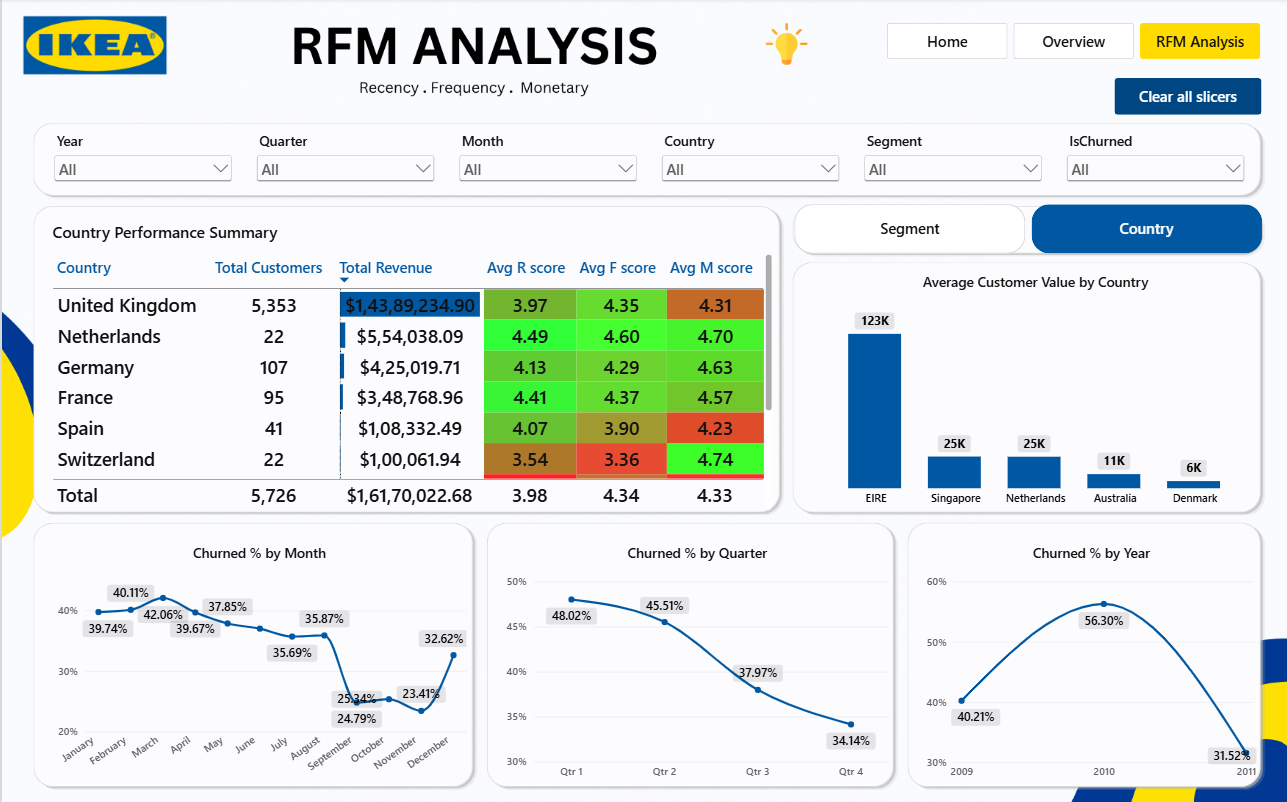

This screenshot's page, from the dashboard's own definition file:
{"tool":"powerbi","page":{"name":"RFM Analysis","canvas":[1750,1100],"ordinal":2},"visuals":[{"type":"slicer","fields":{"Values":["Sheet1.InvoiceDate.Variation.Date Hierarchy.Year"]},"box":[66.1,182.1,251.8,69.6],"z":0},{"type":"lineChart","fields":{"Category":["Sheet1.InvoiceDate.Variation.Date Hierarchy.Month"],"Y":["Sheet1.Churned %"]},"box":[43.4,719.3,595.2,354.7],"z":0,"group":"g1"},{"type":"slicer","fields":{"Values":["Sheet1.InvoiceDate.Variation.Date Hierarchy.Quarter"]},"box":[341.8,182.1,251.8,69.6],"z":1000},{"type":"columnChart","fields":{"Category":["Sheet1.Segment"],"Y":["Sheet1.Average Customer Value"]},"box":[1078,362.6,634.6,340.9],"z":1000,"group":"g1"},{"type":"slicer","fields":{"Values":["Sheet1.InvoiceDate.Variation.Date Hierarchy.Month"]},"box":[617.5,182.1,251.8,69.6],"z":2000},{"type":"lineChart","fields":{"Category":["Sheet1.InvoiceDate.Variation.Date Hierarchy.Quarter"],"Y":["Sheet1.Churned %"]},"box":[660.2,719.3,551.8,354.7],"z":2000,"group":"g1"},{"type":"slicer","fields":{"Values":["Sheet1.Country"]},"box":[893.2,182.1,251.8,69.6],"z":3000},{"type":"lineChart","fields":{"Category":["Sheet1.InvoiceDate.Variation.Date Hierarchy.Year"],"Y":["Sheet1.Churned %"]},"box":[1231.3,719.3,481.3,355.4],"z":3000,"group":"g1"},{"type":"slicer","fields":{"Values":["Sheet1.Segment"]},"box":[1168.9,182.1,251.8,69.6],"z":4000},{"type":"tableEx","title":"Segment Performance Summary","fields":{"Values":["Sheet1.Segment","Sheet1.Total Customers","Sheet1.Total Revenue","Avg(Sheet1.R score)","Avg(Sheet1.F score)","Avg(Sheet1.M score)"]},"box":[43.4,279.8,1011,423.7],"z":4000,"group":"g1"},{"type":"slicer","fields":{"Values":["Sheet1.IsChurned"]},"box":[1444.6,182.1,251.8,69.6],"z":5000},{"type":"actionButton","box":[1513.6,108.8,200,50],"z":6000},{"type":"bookmarkNavigator","box":[1078,279.8,636.5,67],"z":7000},{"type":"group","id":"g1","title":"Group 1","box":[43.4,279.8,1669.2,795],"z":8000},{"type":"image","box":[1038.6,33.5,57.2,57.2],"z":10000},{"type":"pageNavigator","box":[1204.1,34,510.2,49.3],"z":15000}]}

Visuals, with their boxes in screenshot pixels (x1, y1, x2, y2), scaled from the page's 1750x1100 canvas onto the 1287x802 screenshot:
slicer - Sheet1.InvoiceDate.Variation.Date Hierarchy.Year: [left=49, top=133, right=234, bottom=184]
lineChart - Sheet1.InvoiceDate.Variation.Date Hierarchy.Month x Sheet1.Churned %: [left=32, top=524, right=470, bottom=783]
slicer - Sheet1.InvoiceDate.Variation.Date Hierarchy.Quarter: [left=251, top=133, right=437, bottom=184]
columnChart - Sheet1.Segment x Sheet1.Average Customer Value: [left=793, top=264, right=1259, bottom=513]
slicer - Sheet1.InvoiceDate.Variation.Date Hierarchy.Month: [left=454, top=133, right=639, bottom=184]
lineChart - Sheet1.InvoiceDate.Variation.Date Hierarchy.Quarter x Sheet1.Churned %: [left=486, top=524, right=891, bottom=783]
slicer - Sheet1.Country: [left=657, top=133, right=842, bottom=184]
lineChart - Sheet1.InvoiceDate.Variation.Date Hierarchy.Year x Sheet1.Churned %: [left=906, top=524, right=1259, bottom=784]
slicer - Sheet1.Segment: [left=860, top=133, right=1045, bottom=184]
"Segment Performance Summary" tableEx: [left=32, top=204, right=775, bottom=513]
slicer - Sheet1.IsChurned: [left=1062, top=133, right=1248, bottom=184]
actionButton: [left=1113, top=79, right=1260, bottom=116]
bookmarkNavigator: [left=793, top=204, right=1261, bottom=253]
"Group 1" group: [left=32, top=204, right=1259, bottom=784]
image: [left=764, top=24, right=806, bottom=66]
pageNavigator: [left=886, top=25, right=1261, bottom=61]
